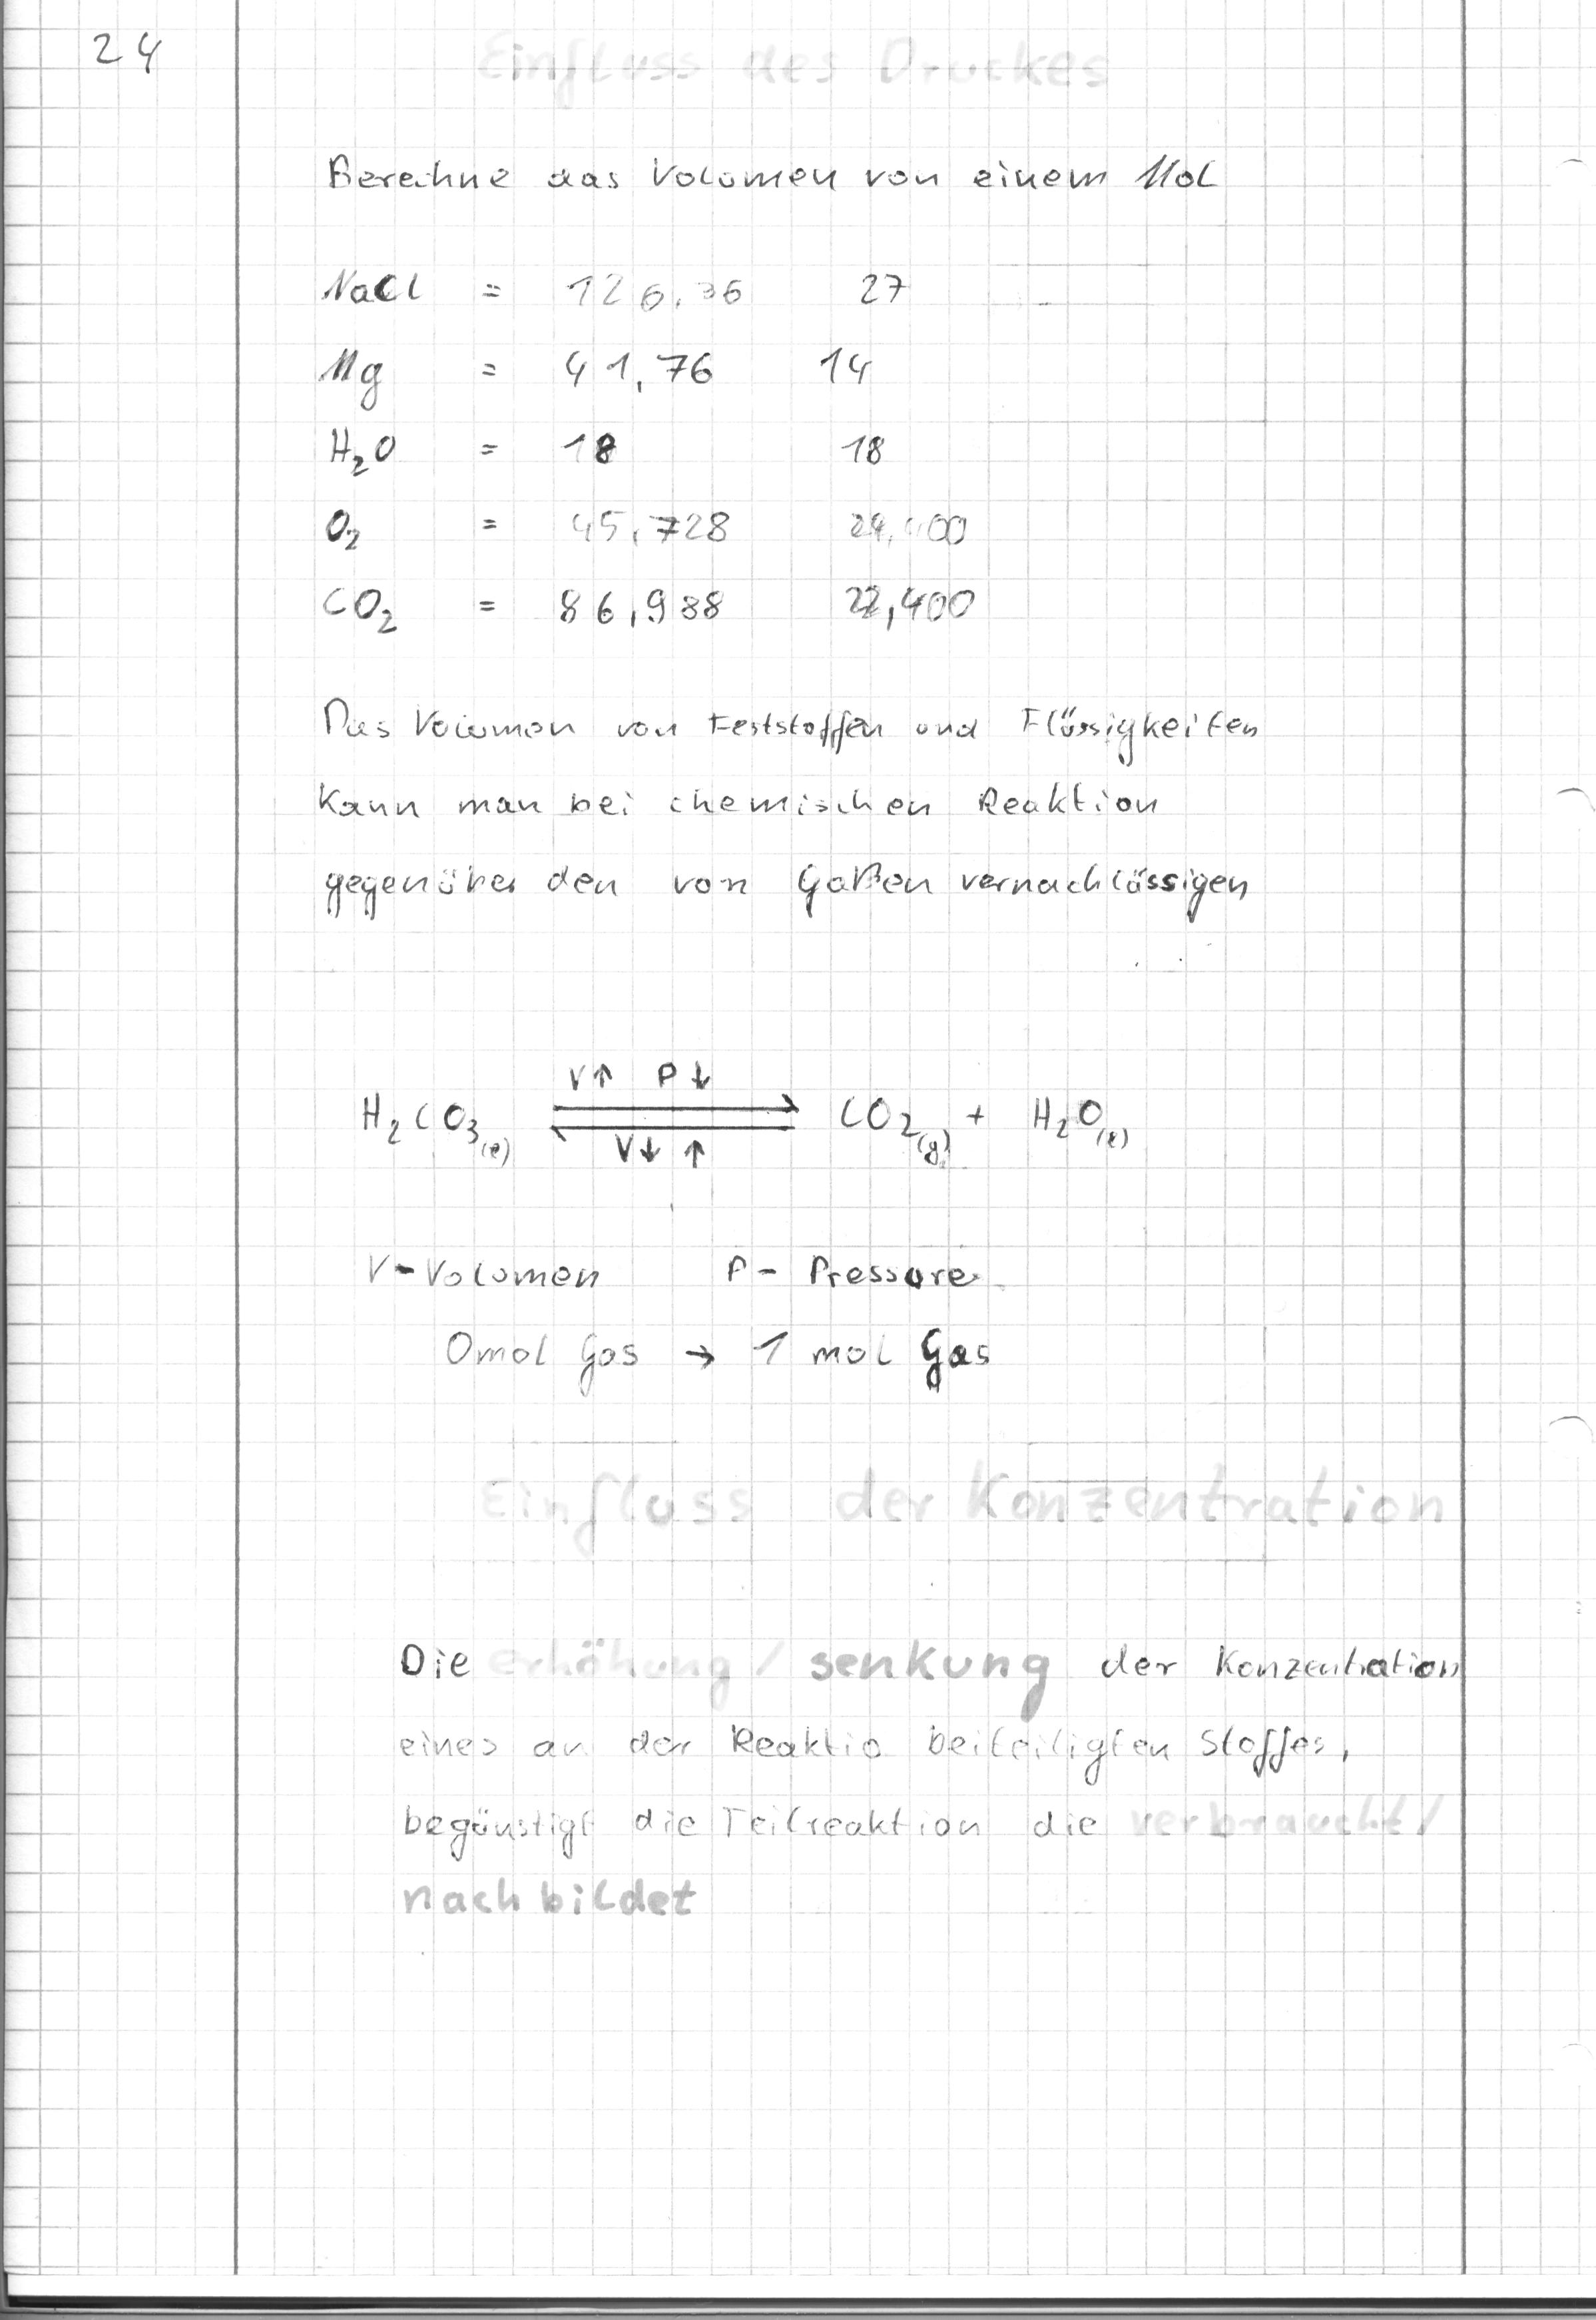word: (320, 689, 1265, 772), (320, 852, 1259, 931), (392, 1717, 1352, 1789), (318, 144, 1224, 200), (398, 1796, 1104, 1869), (307, 773, 1168, 830), (433, 1320, 999, 1402), (318, 577, 983, 643), (308, 340, 886, 416), (349, 1235, 993, 1302), (314, 498, 970, 557), (324, 420, 905, 481), (316, 262, 920, 318), (1095, 1637, 1462, 1687), (393, 1634, 473, 1685)
